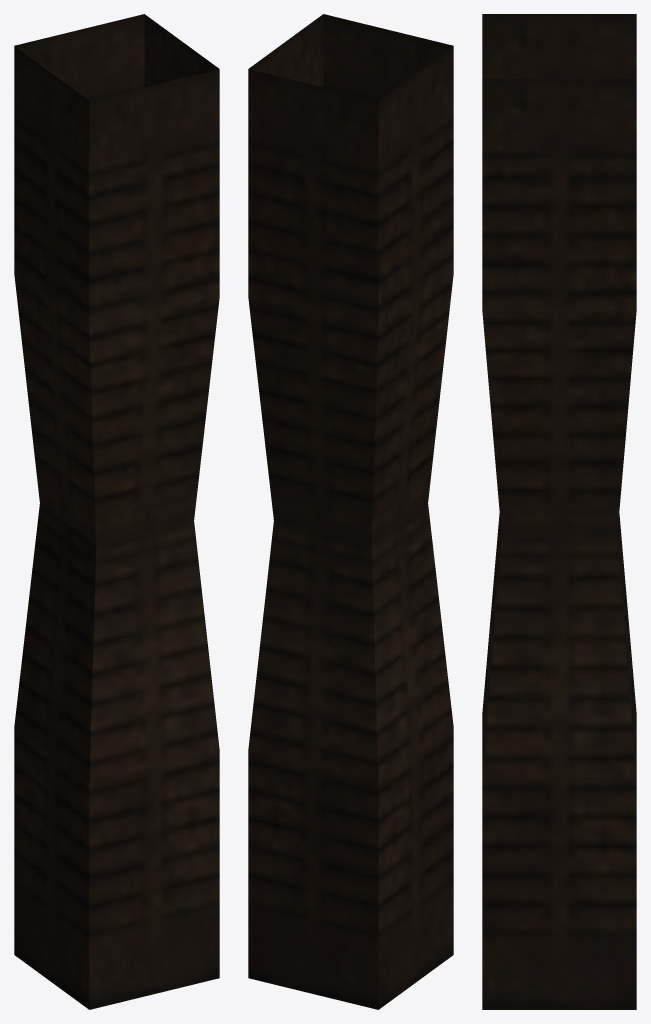
File: column_6.obj
3 renders of one model, left to right at view 1: azimuth 30°, elevation 25°; view 2: azimuth 150°, elevation 25°; view 3: azimuth 270°, elevation 25°, orthographic. The views are drawn at different scales.
Visible parts, largest first — view 1: column_6; view 2: column_6; view 3: column_6.
Part boxes in pixels (x1,y1,x2,y2): column_6: [14, 14, 219, 1009]; column_6: [248, 14, 453, 1009]; column_6: [482, 14, 636, 1009].
Size of the model in its own units: 0.3 by 2 by 0.3.
